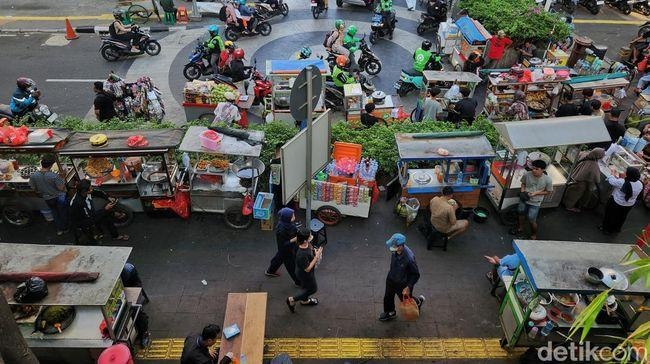Gerobak: (494, 238, 647, 362), (0, 242, 140, 362), (484, 115, 614, 228), (58, 127, 185, 222), (176, 126, 270, 231), (393, 131, 497, 224), (0, 122, 75, 228), (296, 140, 380, 226), (481, 66, 569, 120), (263, 56, 332, 120), (179, 76, 250, 124), (562, 71, 634, 116), (442, 16, 494, 69)
